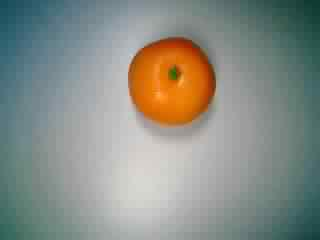orange: (126, 33, 221, 129)
